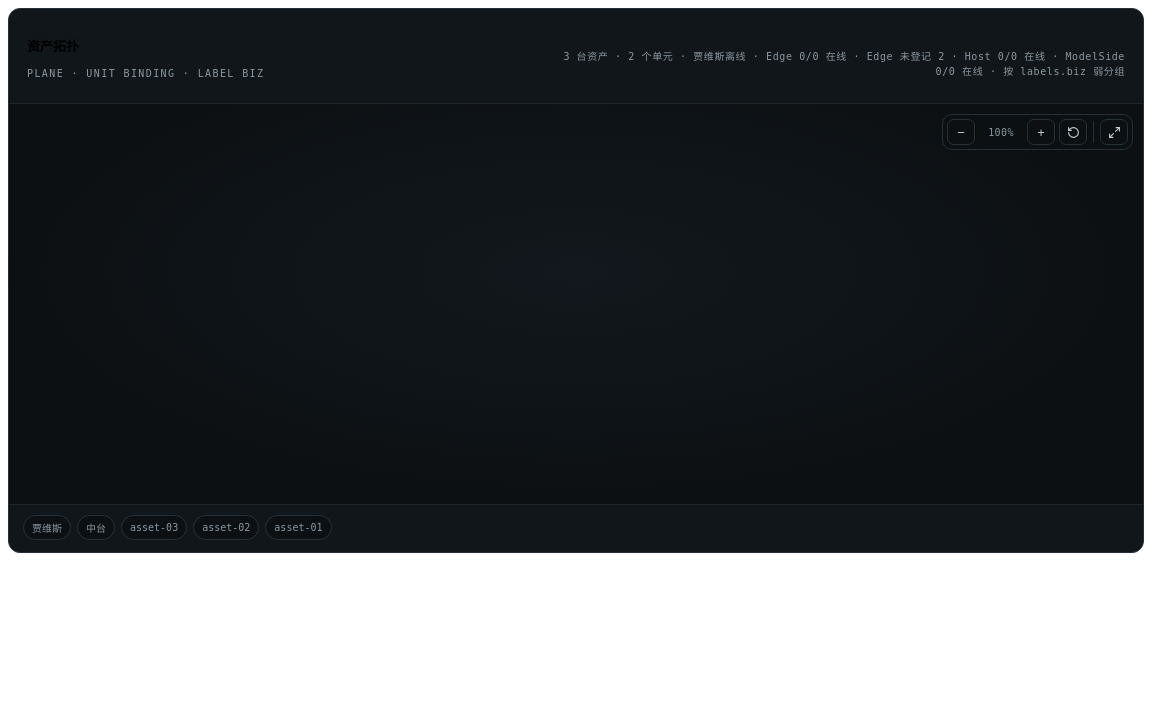
AssetEstateMap › 用 unitIds 画绑定，未绑定资产可选中并提示无边
Expected: the element named "可键盘选择的拓扑节点" is shown, [9, 504, 1143, 552]
Expected: the text "按 labels.biz 弱分组" is shown, [983, 66, 1125, 77]
Click the button with aria-label "选中资产 legacy-erp" at (154, 528), box [121, 515, 187, 540]
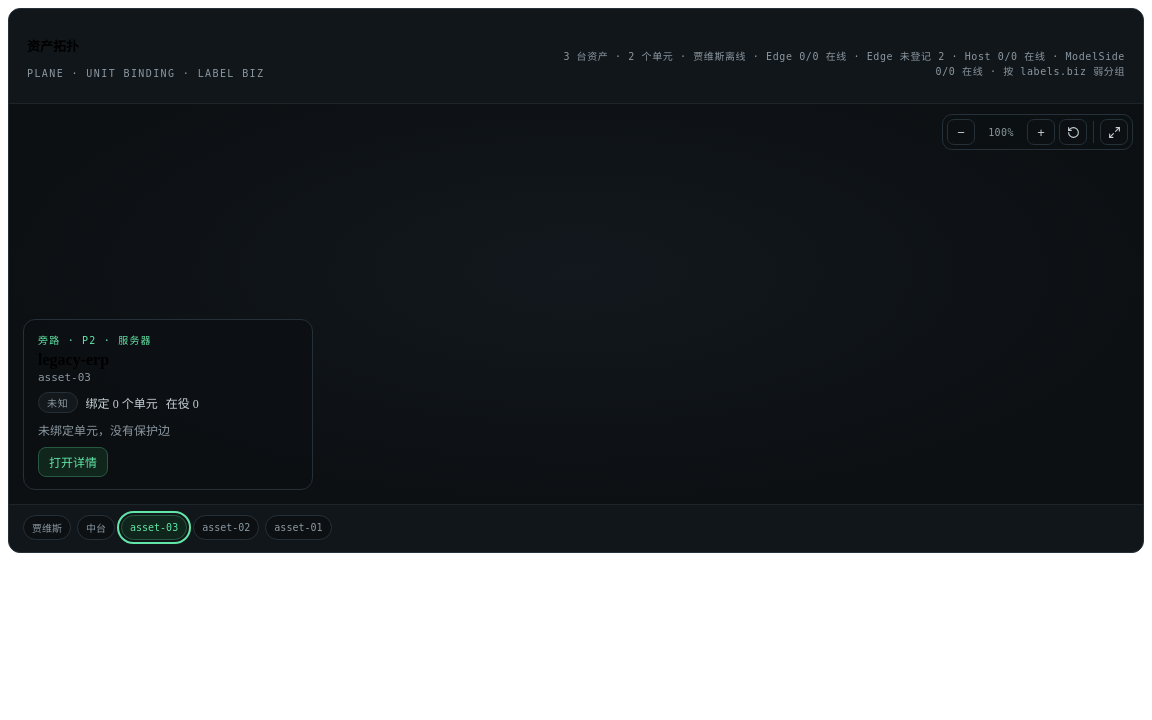
Result: the element named "选中资产" is shown at [23, 319, 313, 490]
Result: the text "未绑定单元，没有保护边" is shown at [38, 424, 170, 438]
